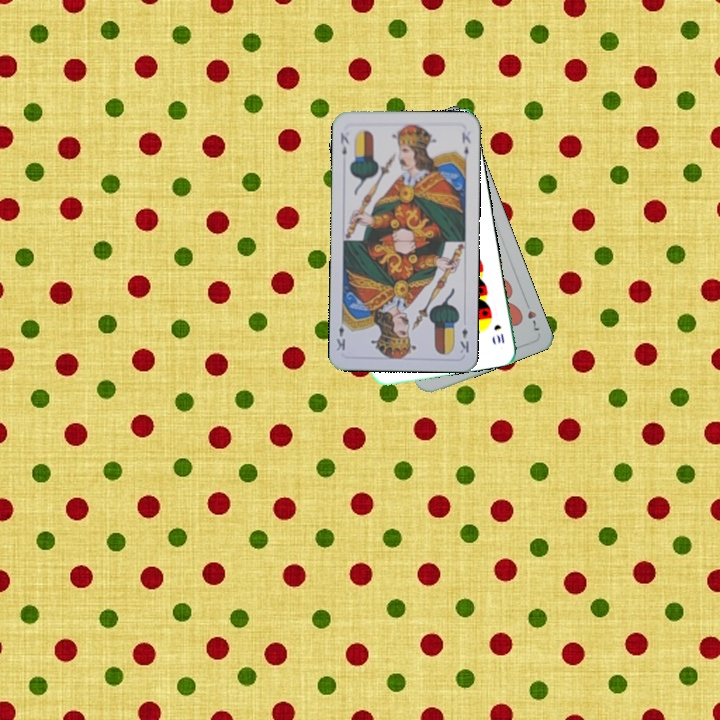EK: (456, 324, 471, 356), (336, 129, 352, 158)
H7: (521, 296, 543, 334)
S10: (490, 320, 507, 346)
